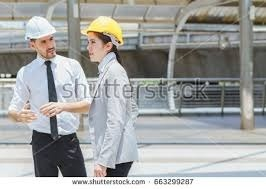helmet: (77, 14, 129, 42), (22, 17, 57, 36)
person with partial safety: (12, 16, 86, 177), (76, 12, 143, 178)
